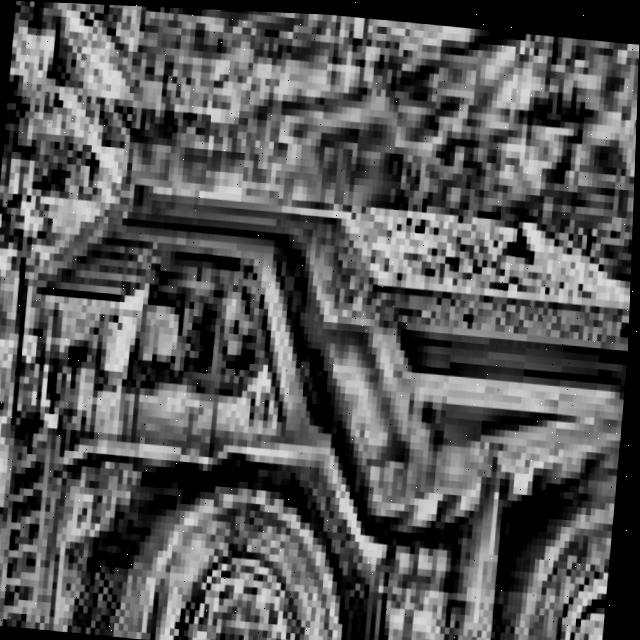dump_truck: (0, 129, 636, 640)
